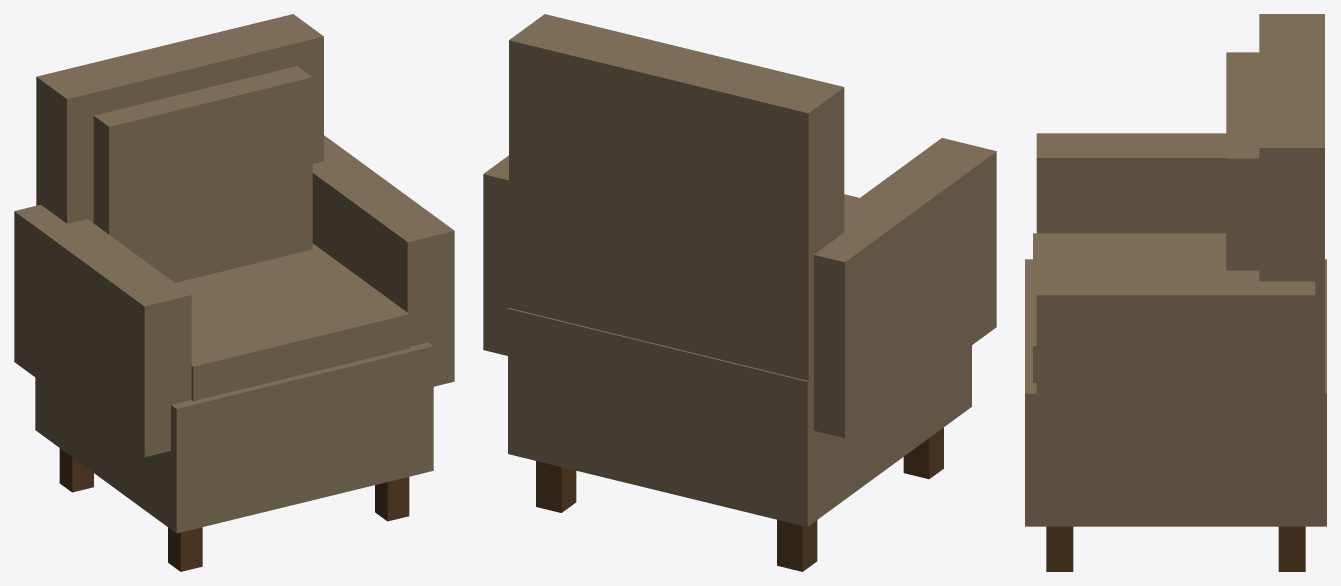
Rendered from armchair_80s.glb.
3 views of the same model, side by side, from view 1: azimuth 30°, elevation 25°; view 2: azimuth 150°, elevation 25°; view 3: azimuth 270°, elevation 25° (orthographic). The views are drawn at different scales.
Parts seen in each view (by area): view 1: fabric__upholstered_base, cloth__back_cushion, fabric__left_arm, cloth__seat_cushion, fabric__back_shell, fabric__right_arm, _MeshInstance3D_121, _MeshInstance3D_123, wood__wood_foot; view 2: fabric__back_shell, fabric__upholstered_base, fabric__left_arm, fabric__right_arm, wood__wood_foot, _MeshInstance3D_122, _MeshInstance3D_121; view 3: fabric__right_arm, fabric__upholstered_base, fabric__left_arm, fabric__back_shell, cloth__seat_cushion, cloth__back_cushion, _MeshInstance3D_122, _MeshInstance3D_123.
Part boxes in pixels (x1=…): fabric__upholstered_base: x1=35, y1=342, x2=433, y2=533; cloth__back_cushion: x1=93, y1=66, x2=312, y2=282; fabric__left_arm: x1=14, y1=204, x2=191, y2=457; cloth__seat_cushion: x1=175, y1=243, x2=409, y2=401; fabric__back_shell: x1=36, y1=14, x2=323, y2=223; fabric__right_arm: x1=312, y1=135, x2=454, y2=386; _MeshInstance3D_121: x1=168, y1=527, x2=202, y2=571; _MeshInstance3D_123: x1=375, y1=477, x2=409, y2=521; wood__wood_foot: x1=59, y1=448, x2=93, y2=492; fabric__back_shell: x1=509, y1=14, x2=844, y2=426; fabric__upholstered_base: x1=508, y1=308, x2=971, y2=526; fabric__left_arm: x1=814, y1=138, x2=996, y2=438; fabric__right_arm: x1=483, y1=155, x2=508, y2=355; wood__wood_foot: x1=777, y1=519, x2=817, y2=571; _MeshInstance3D_122: x1=536, y1=461, x2=576, y2=512; _MeshInstance3D_121: x1=903, y1=427, x2=943, y2=479; fabric__right_arm: x1=1036, y1=270, x2=1315, y2=456; fabric__upholstered_base: x1=1025, y1=259, x2=1326, y2=526; fabric__left_arm: x1=1036, y1=133, x2=1226, y2=233; fabric__back_shell: x1=1259, y1=14, x2=1324, y2=435; cloth__seat_cushion: x1=1033, y1=233, x2=1226, y2=382; cloth__back_cushion: x1=1226, y1=52, x2=1259, y2=270; _MeshInstance3D_122: x1=1278, y1=526, x2=1305, y2=571; _MeshInstance3D_123: x1=1046, y1=526, x2=1073, y2=571.
Bounding box in the file's own units: 0.99 × 1.23 × 0.78.
